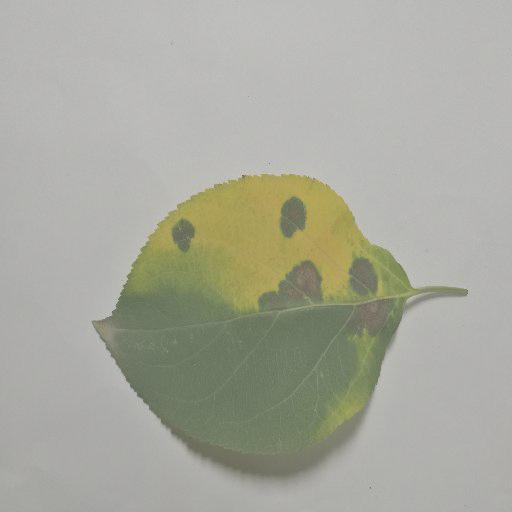Brown_Spot: (255, 260, 326, 315), (346, 299, 399, 338), (163, 210, 198, 253), (346, 259, 384, 298), (273, 197, 302, 237)
